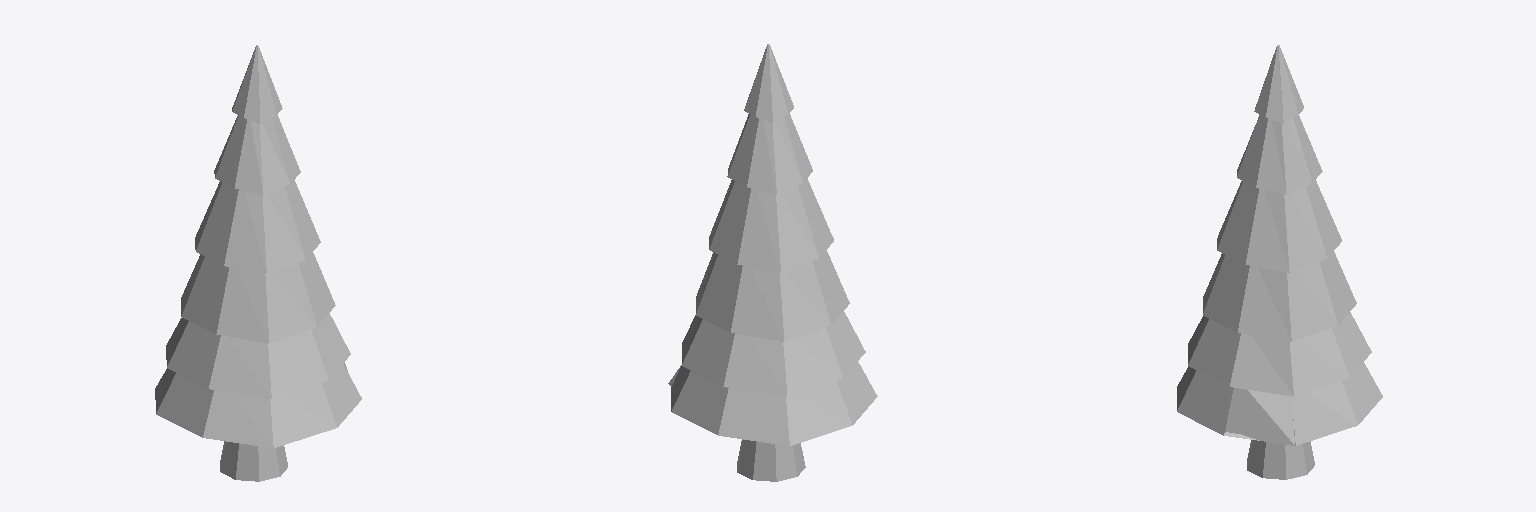
The model's file is textured-tree.obj.
3 renders of one model, left to right at view 1: azimuth 30°, elevation 25°; view 2: azimuth 150°, elevation 25°; view 3: azimuth 270°, elevation 25°, orthographic.
Parts seen in each view (by area): view 1: Cylinder; view 2: Cylinder; view 3: Cylinder.
Part boxes in pixels (x1,y1,x2,y2): Cylinder: (155, 45, 361, 481); Cylinder: (668, 44, 877, 481); Cylinder: (1177, 45, 1382, 479).
Bounding box in the file's own units: 2.35 × 5.12 × 2.28.